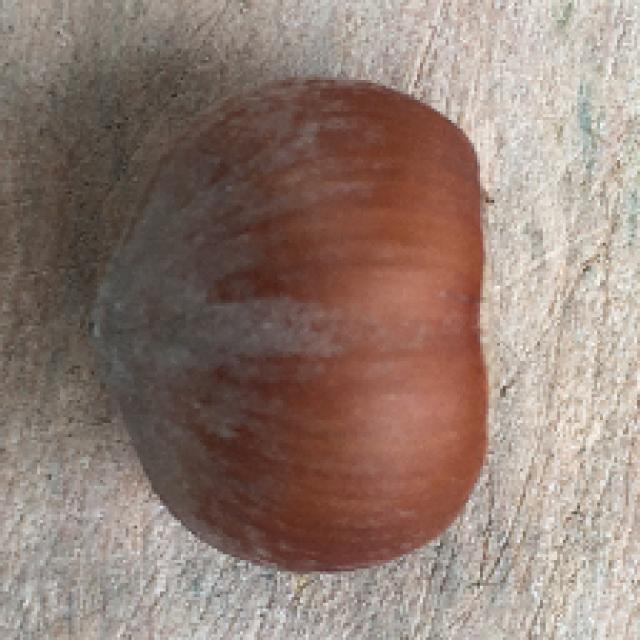qualityHazelnut: (99, 73, 495, 575)
